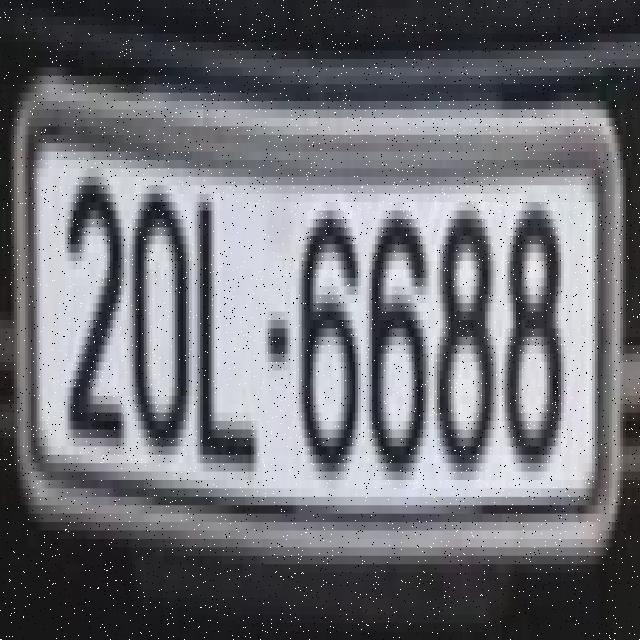0: (130, 182, 193, 465)
2: (61, 177, 127, 456)
6: (296, 198, 361, 480), (366, 207, 431, 476)
8: (506, 181, 566, 475), (437, 207, 493, 480)
L: (198, 196, 261, 480)
